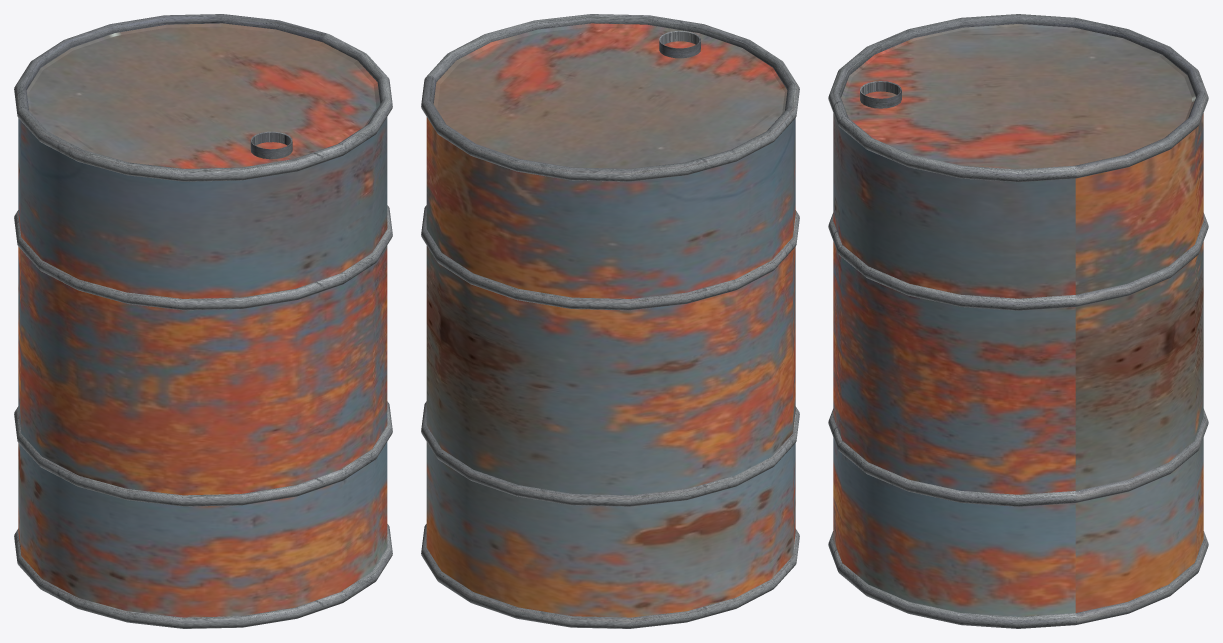
The model's file is Drum can texture.fbx.
3 views of the same model, side by side, from view 1: azimuth 30°, elevation 25°; view 2: azimuth 150°, elevation 25°; view 3: azimuth 270°, elevation 25° (orthographic).
Parts seen in each view (by area): view 1: pCylinder109; view 2: pCylinder109; view 3: pCylinder109.
Boxes of the visible parts, <box> form: pCylinder109: <box>14,14,392,628</box>; pCylinder109: <box>421,14,799,628</box>; pCylinder109: <box>828,14,1208,628</box>.
Size of the model in its own units: 6.88 by 9.19 by 6.88.
